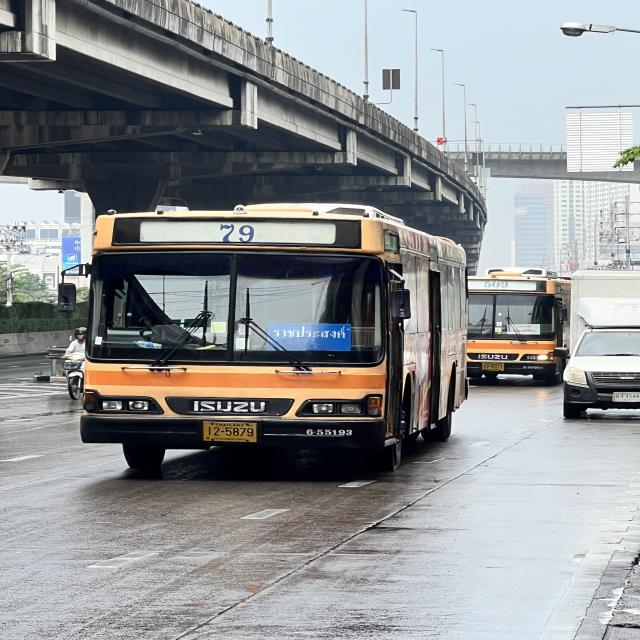BMTA-bus: (77, 204, 469, 479), (466, 270, 571, 388)
Bus Line Number: (210, 220, 260, 244), (482, 278, 510, 290)
Bus Side Number: (299, 424, 358, 440), (520, 364, 546, 370)
Destination Sign: (266, 321, 352, 351), (507, 325, 540, 334)
